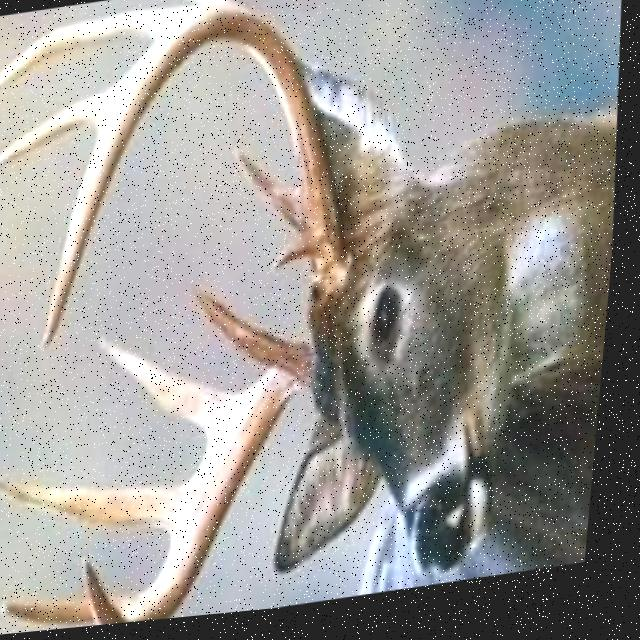L-F: (91, 347, 322, 629)
L-G1: (197, 279, 303, 376)
L-G2: (101, 335, 243, 445)
L-G3: (0, 474, 196, 540)
R-F: (45, 5, 359, 354)
R-G1: (274, 243, 317, 279)
R-G2: (233, 150, 303, 242)
R-G3: (165, 0, 232, 7)
R-G4: (0, 9, 194, 92)
R-G5: (0, 89, 114, 174)
